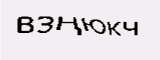Б: (90, 21, 105, 45)
Е: (58, 18, 73, 39)
И: (39, 14, 53, 37)
Н: (76, 21, 91, 43)
Т: (106, 23, 125, 43)
